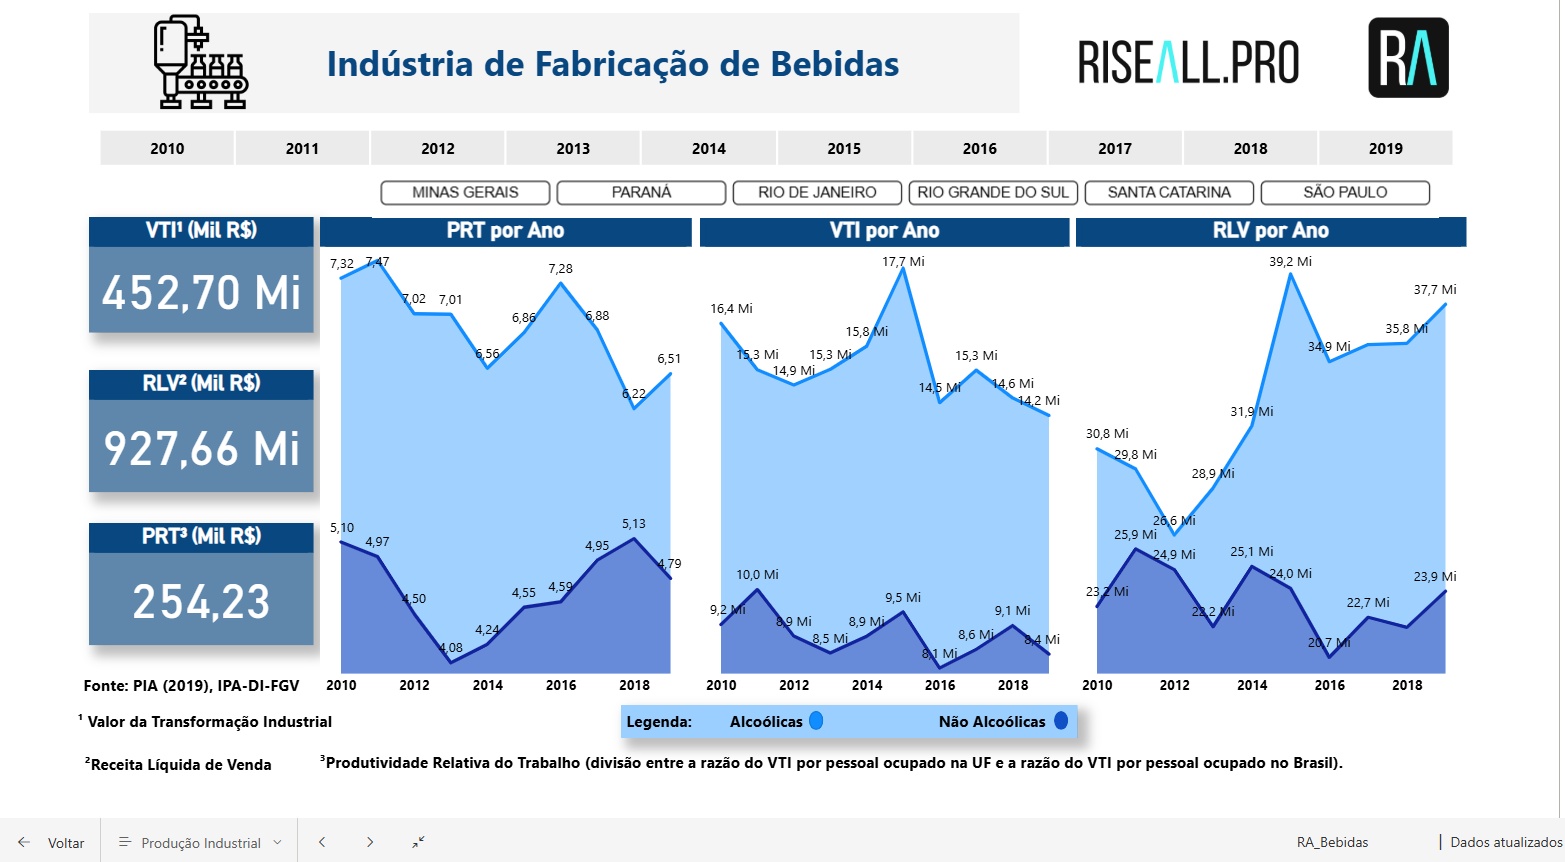

The page's visual inventory and layout, read from the dashboard file:
{"tool":"powerbi","page":{"name":"Produção Industrial","canvas":[1280,720],"ordinal":3},"visuals":[{"type":"textbox","box":[15.8,11.5,846.5,90.5],"z":0},{"type":"card","title":"VTI¹ (Mil R$)","fields":{"Values":["Sum(PIA_Divisão.VTI_bebidas)"]},"box":[15.8,196.9,204.1,104.9],"z":3000},{"type":"card","title":"RLV² (Mil R$)","fields":{"Values":["Sum(PIA_Divisão.RLV_bebidas)"]},"box":[15.8,336.3,204.1,110.7],"z":4000},{"type":"card","title":"PRT³ (Mil R$)","fields":{"Values":["Sum(PIA_Divisão.PRT_bebidas)"]},"box":[15.8,475.7,204.1,110.7],"z":5000},{"type":"textbox","box":[219.9,678.3,961.4,40.2],"z":6000},{"type":"textbox","box":[0,640.8,260.6,39.3],"z":7000},{"type":"textbox","box":[6.6,680.2,188.5,39.3],"z":8000},{"type":"areaChart","title":"PRT por Ano","fields":{"Category":["PIA_Grupos.Ano*.Variation.Hierarquia de datas.Ano"],"Y":["Sum(PIA_Grupos.PRT_alcoolicas)","Sum(PIA_Grupos.PRT_n_alcoolicas)"]},"box":[225.6,196.9,337.7,444.1],"z":9000},{"type":"areaChart","title":"VTI por Ano","fields":{"Category":["PIA_Grupos.Ano*.Variation.Hierarquia de datas.Ano"],"Y":["Sum(PIA_Grupos.VTI_alcoolicas)","Sum(PIA_Grupos.VTI_n_alcoolicas)"]},"box":[570.5,196.9,336.3,444.1],"z":10000},{"type":"areaChart","title":"RLV por Ano","fields":{"Category":["PIA_Grupos.Ano*.Variation.Hierarquia de datas.Ano"],"Y":["Sum(PIA_Grupos.RLV_alcoolicas)","Sum(PIA_Grupos.RLV_n_alcoolicas)"]},"box":[912.6,196.9,355,444.1],"z":11000},{"type":"shape","box":[669.7,646.7,12.9,17.2],"z":12000},{"type":"shape","box":[892.5,646.7,12.9,17.2],"z":13000},{"type":"textbox","box":[498.7,641,415.3,30],"z":14000},{"type":"ChicletSlicer1448559807354","fields":{"Category":["PIA_Grupos.uf"]},"box":[273.1,156.6,970.1,41.7],"z":15000},{"type":"slicer","fields":{"Values":["PIA_Grupos.Ano*.Variation.Hierarquia de datas.Ano"]},"box":[0,112.1,1279,44.6],"z":16000},{"type":"image","box":[63.2,8.6,107.8,96.3],"z":17000},{"type":"textbox","box":[5.7,607.9,218.4,33.1],"z":18000},{"type":"image","box":[911.1,23.5,208.7,64.5],"z":18001},{"type":"image","box":[1172.6,10.6,84.4,83.3],"z":18002}]}

Visuals, with their boxes on the page's 1280x720 design canvas (x1, y1, x2, y2). These are canvas units, not pixel positions in the 1565x862 screenshot, which may show the page scaled, cropped or inside an application window:
textbox: {"left": 16, "top": 12, "right": 862, "bottom": 102}
"VTI¹ (Mil R$)" card: {"left": 16, "top": 197, "right": 220, "bottom": 302}
"RLV² (Mil R$)" card: {"left": 16, "top": 336, "right": 220, "bottom": 447}
"PRT³ (Mil R$)" card: {"left": 16, "top": 476, "right": 220, "bottom": 586}
textbox: {"left": 220, "top": 678, "right": 1181, "bottom": 718}
textbox: {"left": 0, "top": 641, "right": 261, "bottom": 680}
textbox: {"left": 7, "top": 680, "right": 195, "bottom": 720}
"PRT por Ano" areaChart: {"left": 226, "top": 197, "right": 563, "bottom": 641}
"VTI por Ano" areaChart: {"left": 570, "top": 197, "right": 907, "bottom": 641}
"RLV por Ano" areaChart: {"left": 913, "top": 197, "right": 1268, "bottom": 641}
shape: {"left": 670, "top": 647, "right": 683, "bottom": 664}
shape: {"left": 892, "top": 647, "right": 905, "bottom": 664}
textbox: {"left": 499, "top": 641, "right": 914, "bottom": 671}
ChicletSlicer1448559807354 - PIA_Grupos.uf: {"left": 273, "top": 157, "right": 1243, "bottom": 198}
slicer - PIA_Grupos.Ano*.Variation.Hierarquia de datas.Ano: {"left": 0, "top": 112, "right": 1279, "bottom": 157}
image: {"left": 63, "top": 9, "right": 171, "bottom": 105}
textbox: {"left": 6, "top": 608, "right": 224, "bottom": 641}
image: {"left": 911, "top": 24, "right": 1120, "bottom": 88}
image: {"left": 1173, "top": 11, "right": 1257, "bottom": 94}
